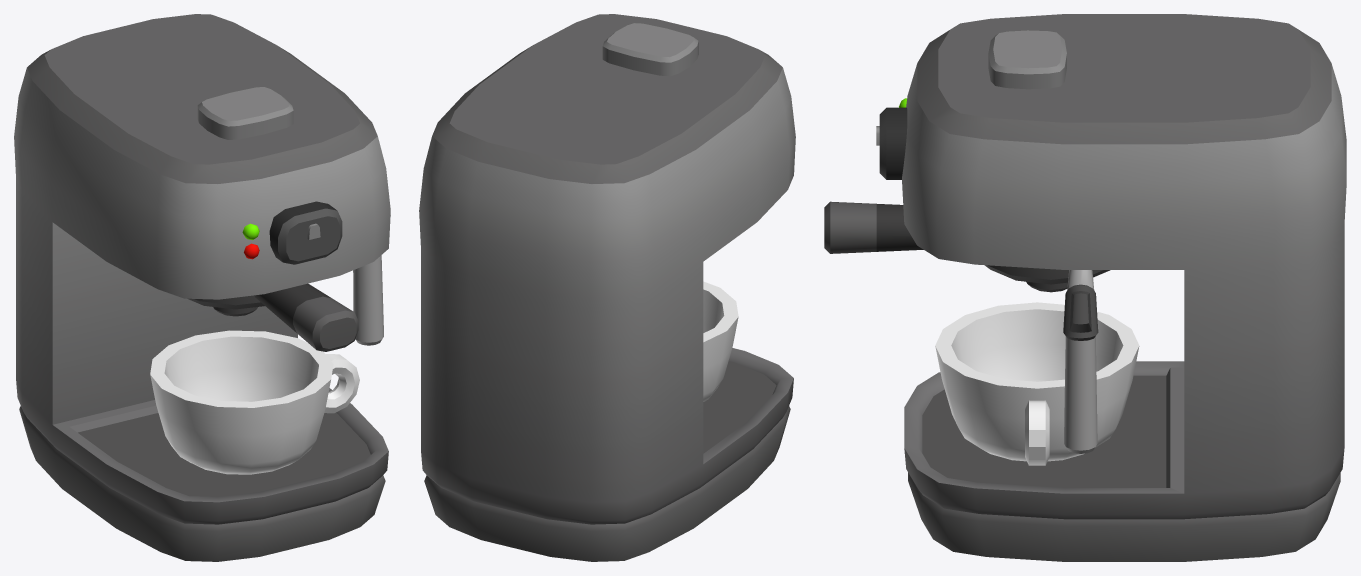
File: Coffee_Machine_01.fbx
3 views of the same model, side by side, from view 1: azimuth 30°, elevation 25°; view 2: azimuth 150°, elevation 25°; view 3: azimuth 270°, elevation 25° (orthographic). The views are drawn at different scales.
Visible parts, largest first — view 1: Coffee_Machine_01; view 2: Coffee_Machine_01; view 3: Coffee_Machine_01.
Part boxes in pixels (bbox=[...]): Coffee_Machine_01: bbox=[14, 14, 390, 561]; Coffee_Machine_01: bbox=[419, 14, 795, 561]; Coffee_Machine_01: bbox=[824, 14, 1346, 561].
Bounding box in the file's own units: 65.89 × 88.41 × 92.72.
